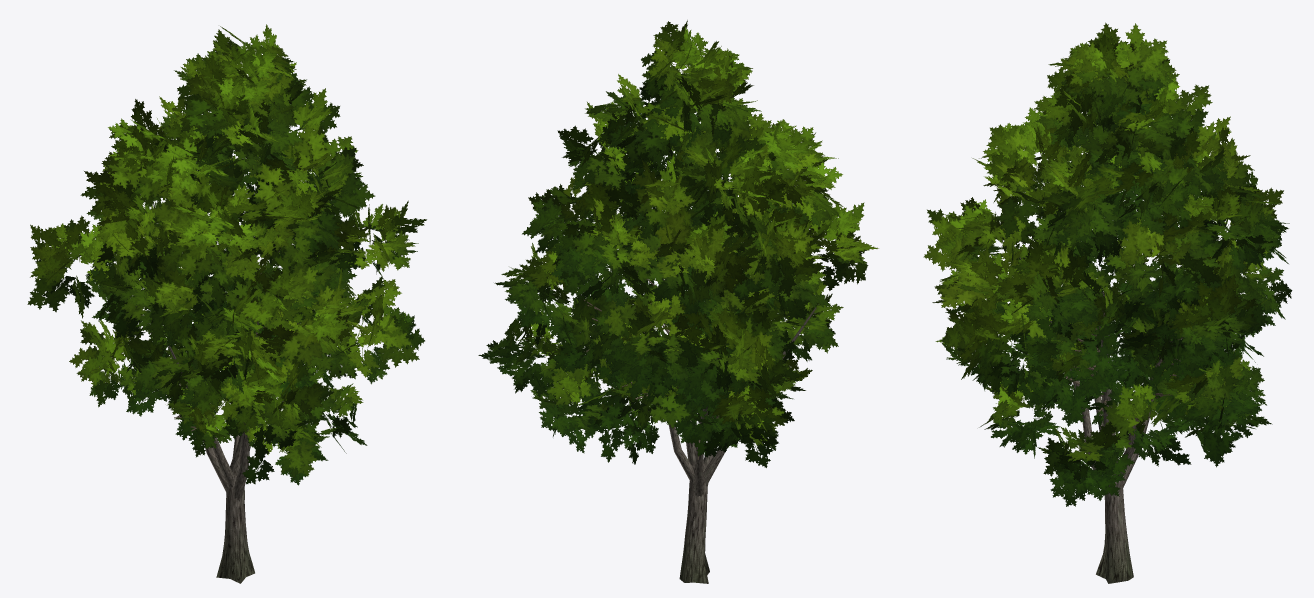
The model's file is maple-large-mid.glb.
3 views of the same model, side by side, from view 1: azimuth 30°, elevation 25°; view 2: azimuth 150°, elevation 25°; view 3: azimuth 270°, elevation 25° (orthographic).
Visible parts, largest first — view 1: Leaves, Bark; view 2: Leaves, Bark; view 3: Leaves, Bark.
Part boxes in pixels (bbox=[...]): Leaves: bbox=[27, 24, 426, 485]; Bark: bbox=[130, 249, 299, 583]; Leaves: bbox=[478, 20, 878, 467]; Bark: bbox=[584, 248, 816, 583]; Leaves: bbox=[923, 22, 1292, 506]; Bark: bbox=[1019, 257, 1191, 583].
Size of the model in its own units: 7.31 by 12.26 by 7.64.
Materials: 2 (2 with a texture image).
